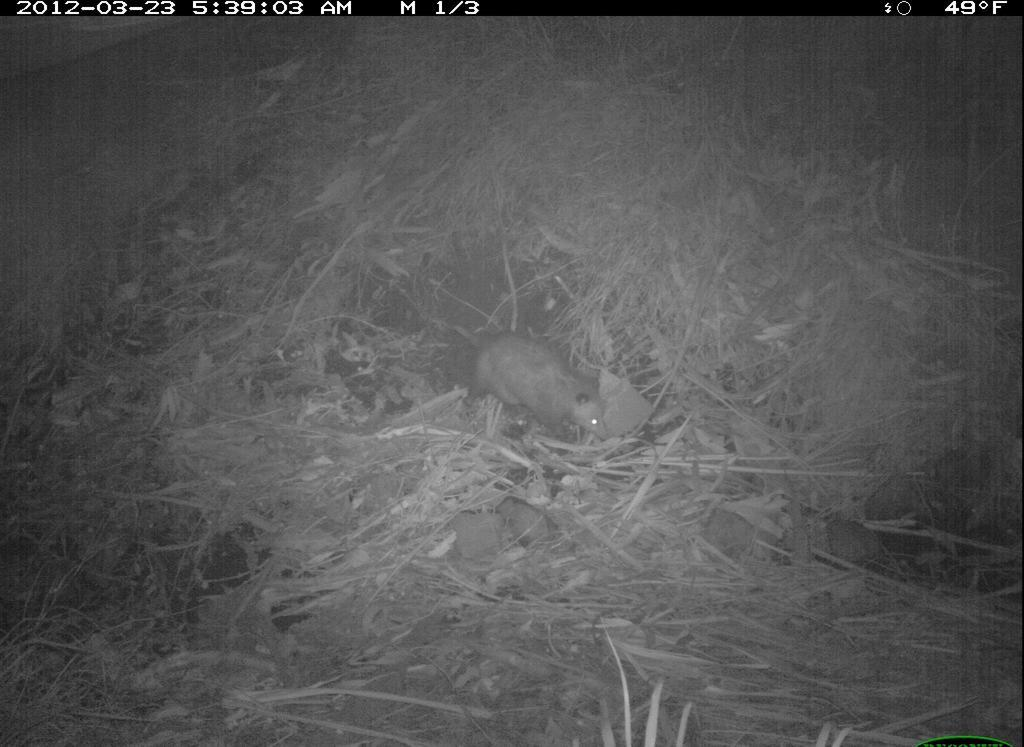opossum: (427, 306, 615, 452)
